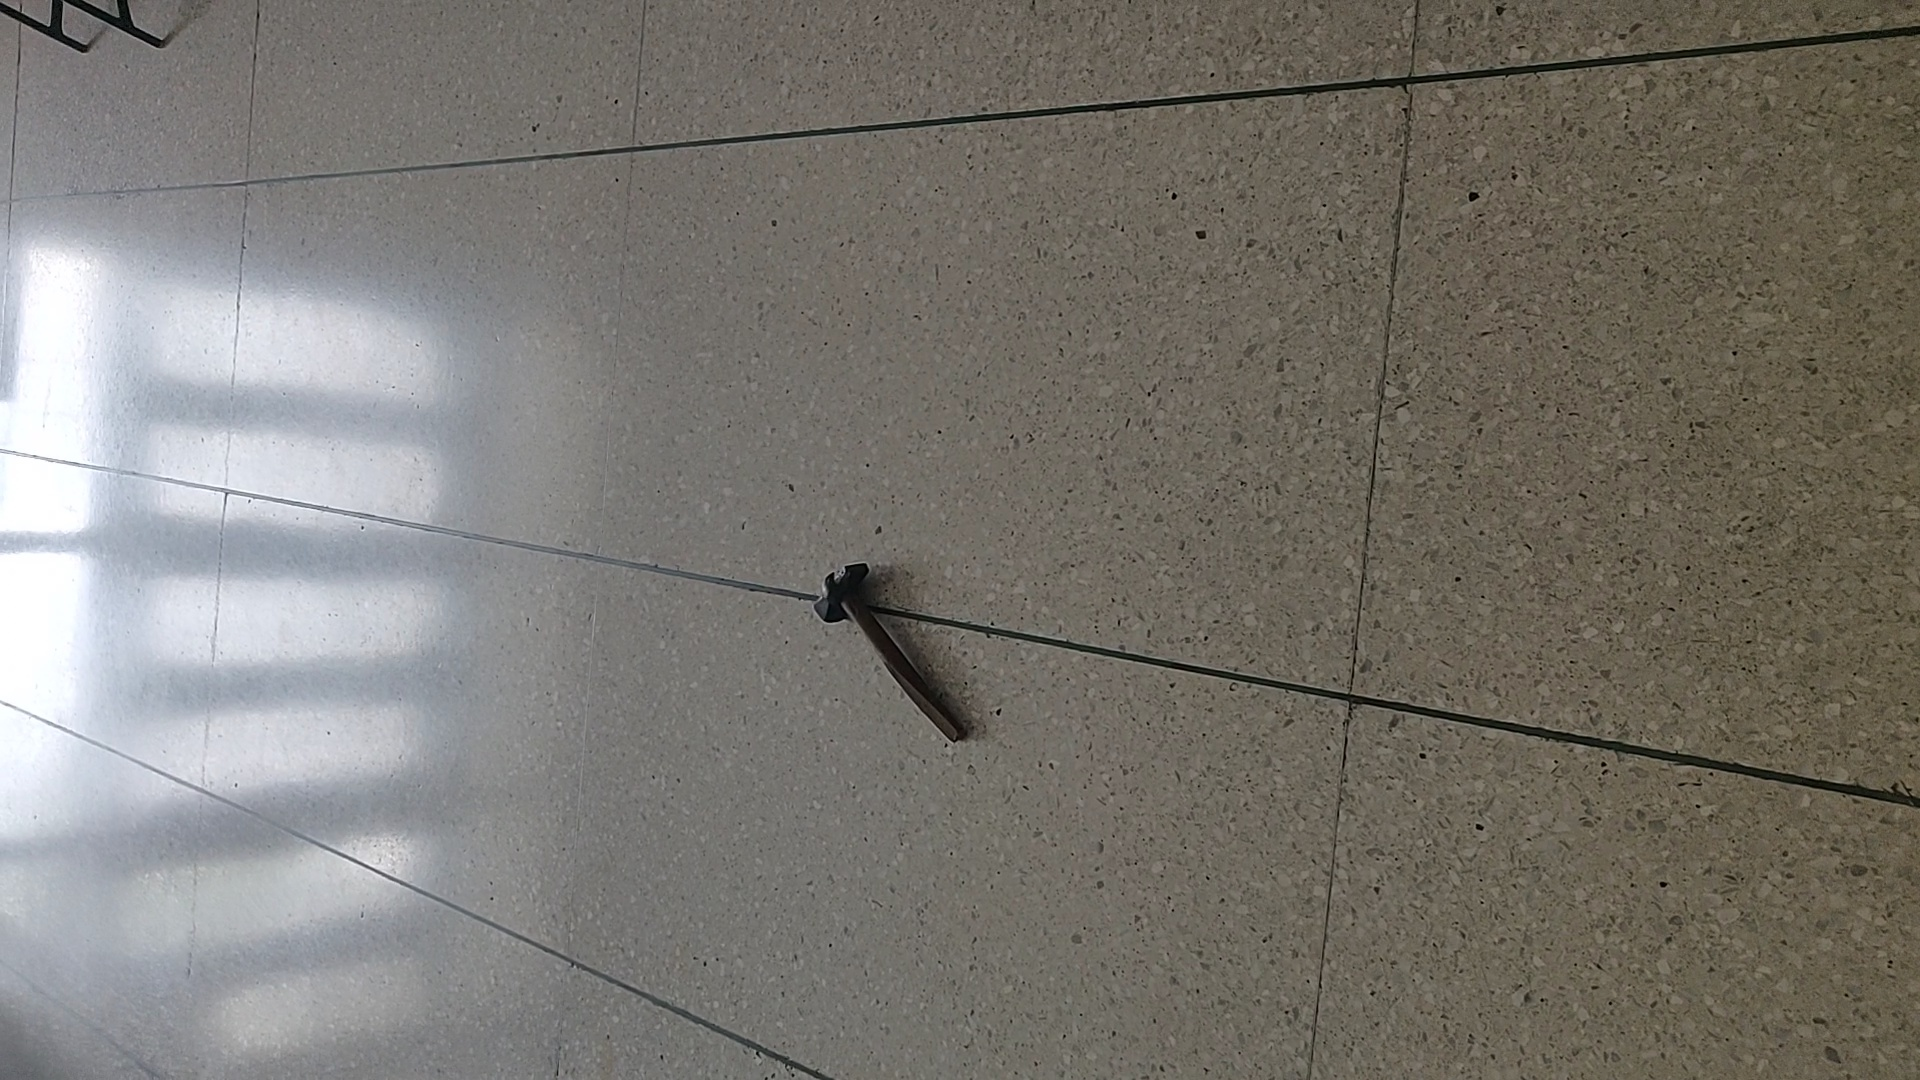hammer: (810, 562, 967, 742)
